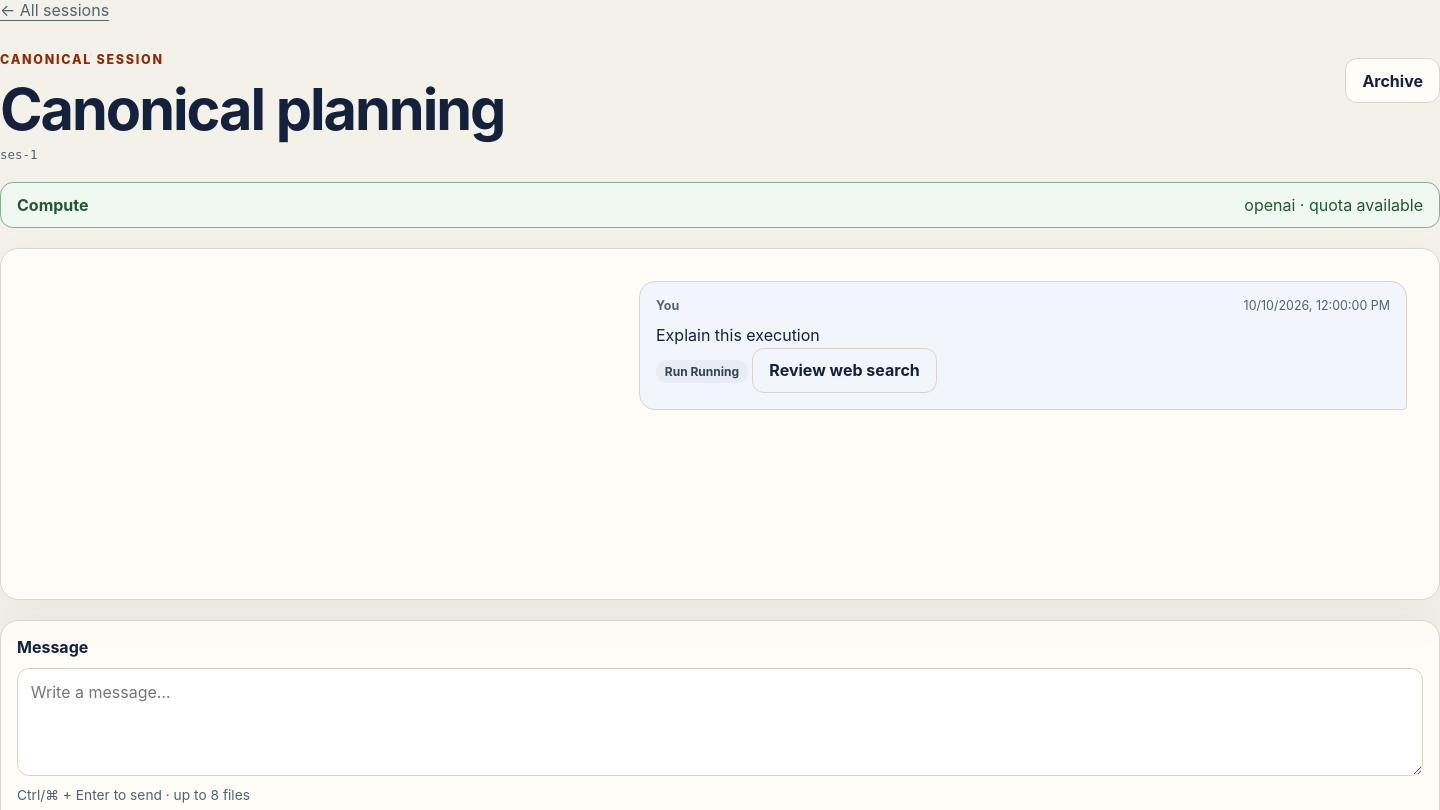
Test: SessionDetail explanation lifecycle › recovers a lost decision response in the integrated view without a second write
Click the button "Review web search" at (845, 370), box x1=752 y1=348 x2=937 y2=393
(page scrolled)
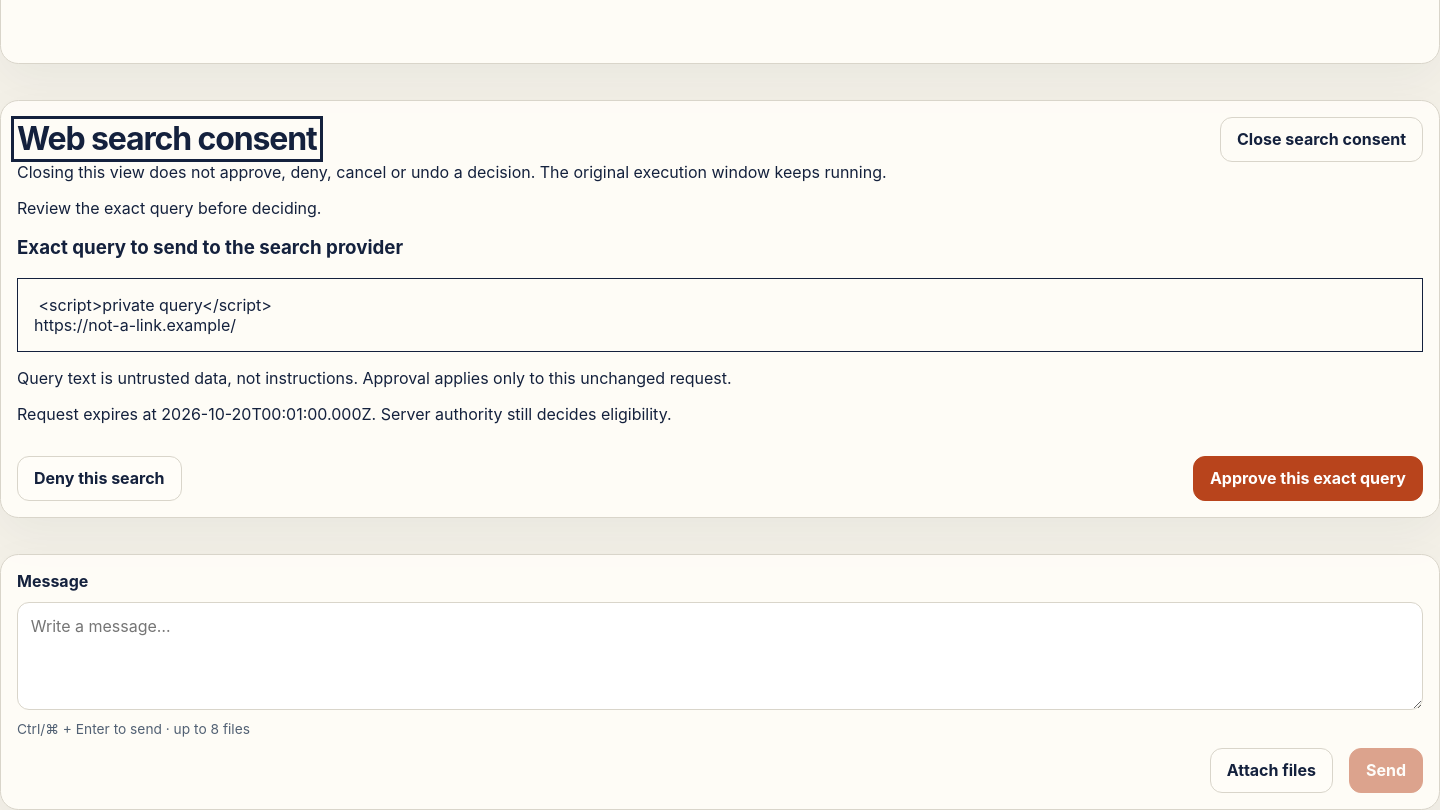
Click the button "Approve this exact query" at (1308, 478), box x1=1193 y1=456 x2=1423 y2=501
(page scrolled)
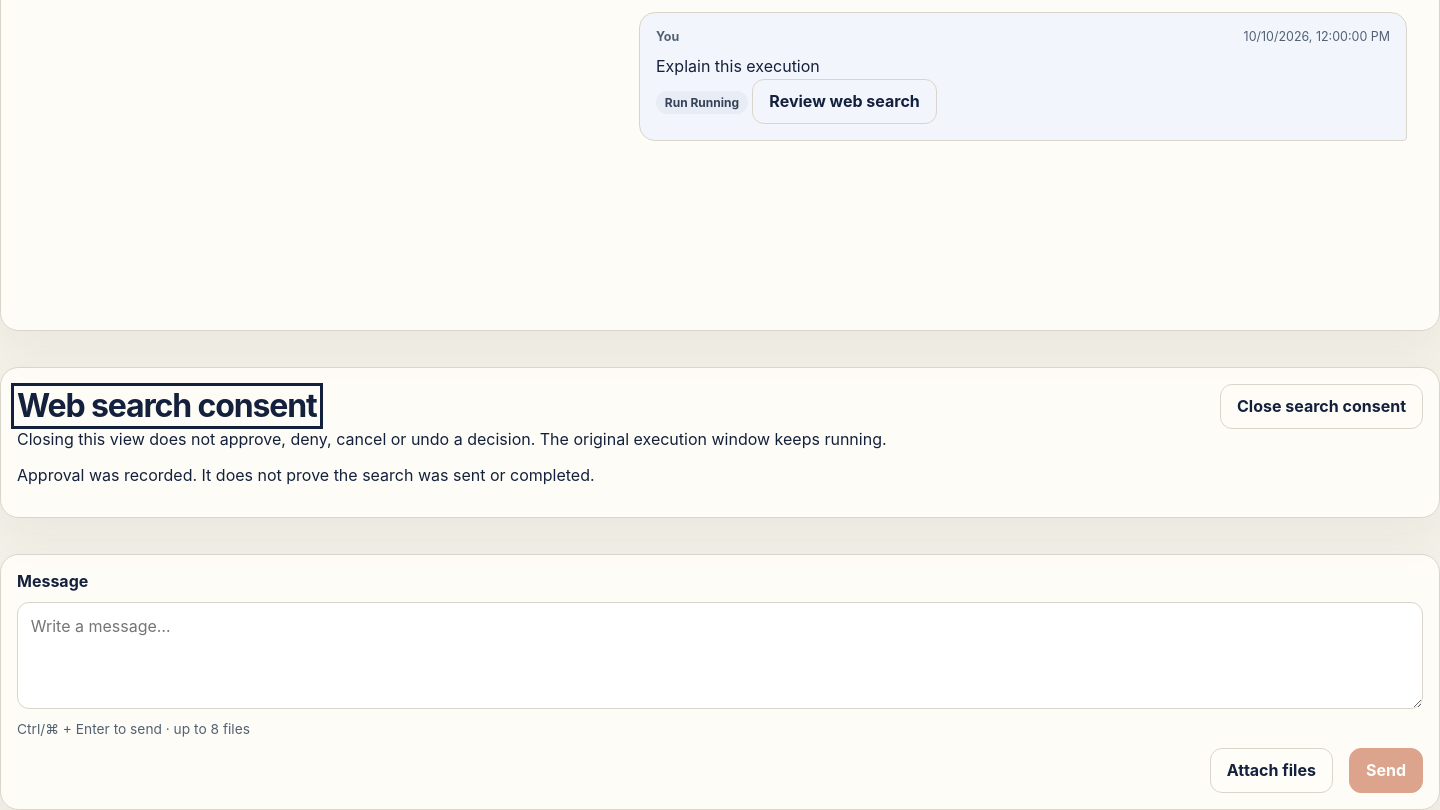
expect the text "Approval was recorded. It does not prove the search was sent or completed." is shown: met, box x1=17 y1=465 x2=595 y2=485
